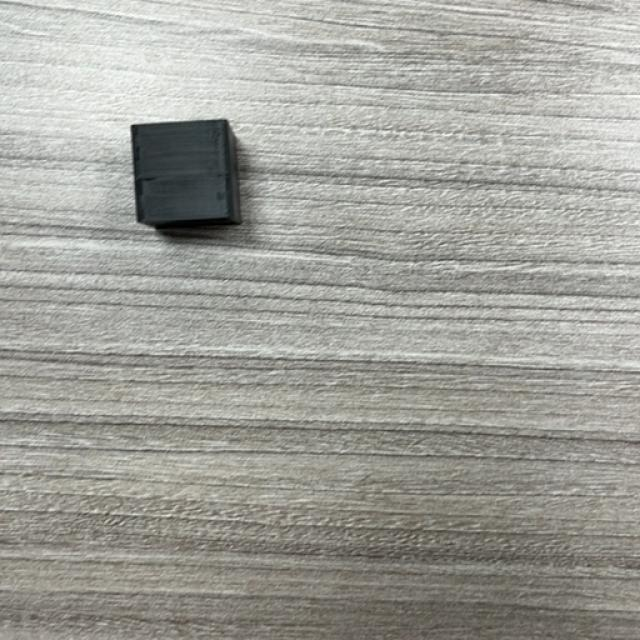Negro: (130, 119, 244, 231)
